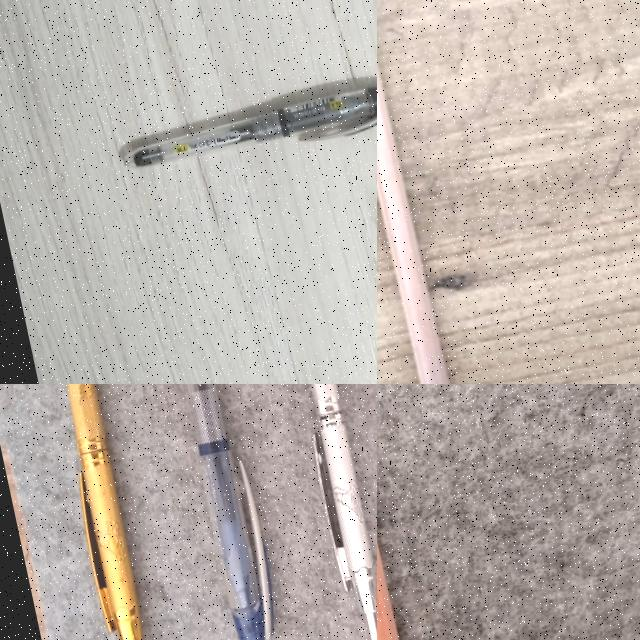pen: (137, 384, 286, 640), (123, 87, 376, 167)
pencil: (377, 71, 447, 383), (377, 544, 398, 639)
signature pen: (16, 384, 161, 640), (311, 384, 377, 640)
